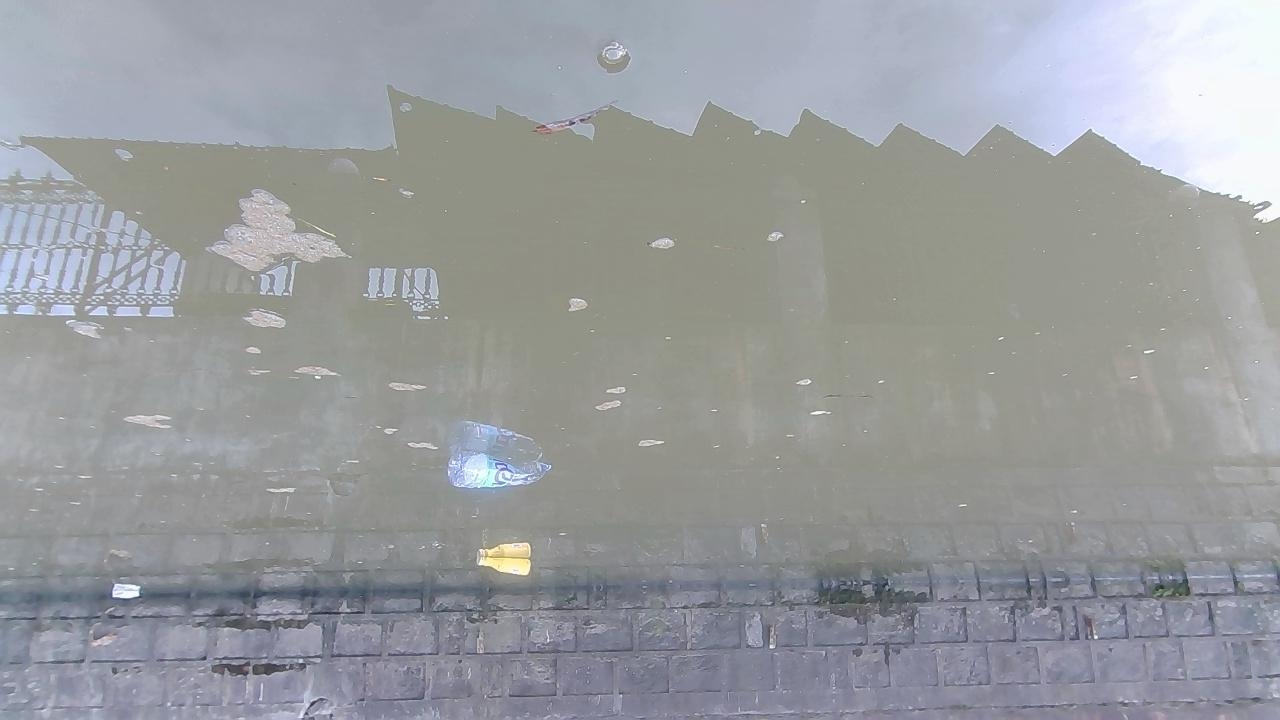Plastic: (446, 452, 554, 489), (475, 555, 531, 576), (111, 587, 142, 600)
